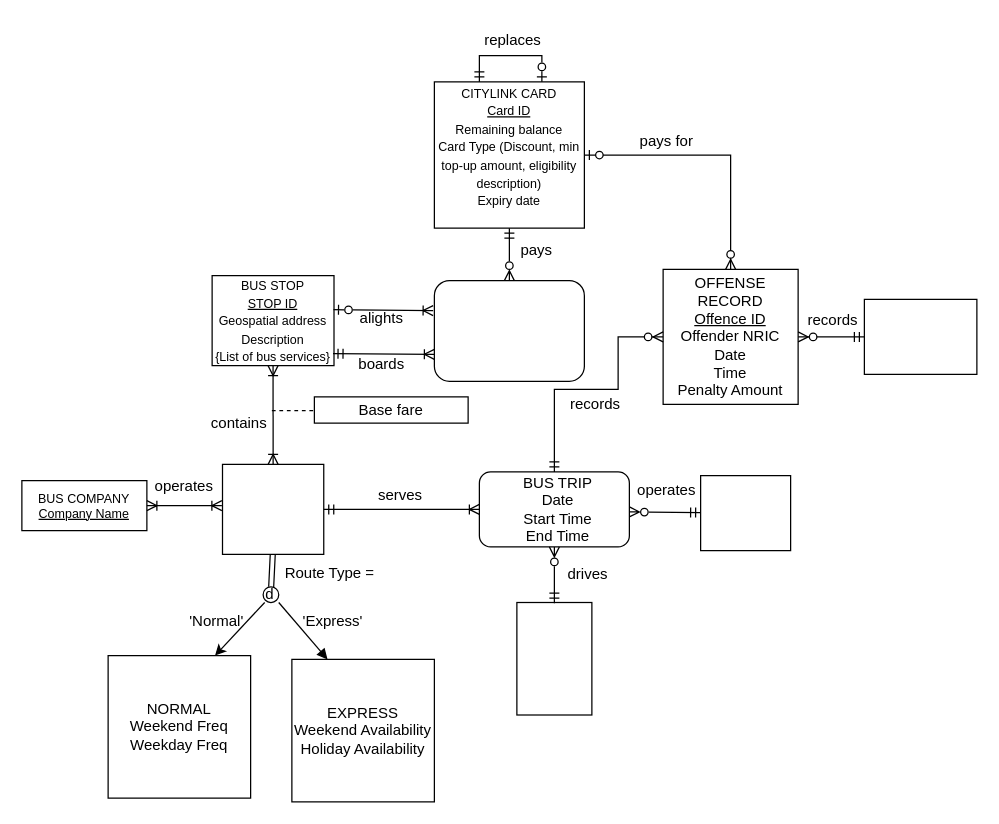
This 999x824 diagram has some shape labels left out. The centre of each missing label's shape, as x and y in pixels:
"BUS Plate number Fuel type Capacity" goes at [745,512].
"BUS SERVICE Service ID Total no. of stops {List of ordered bus stops}" goes at [272,508].
"DRIVER DID NRIC Name Date of birth Gender" goes at [554,658].
"PASSENGER RIDE Boarding Time Physical/Virtual card [Charged Fare] Alighting Time" goes at [508,330].
"PATROL OFFICER Officer ID Name Years employed" goes at [920,336].
